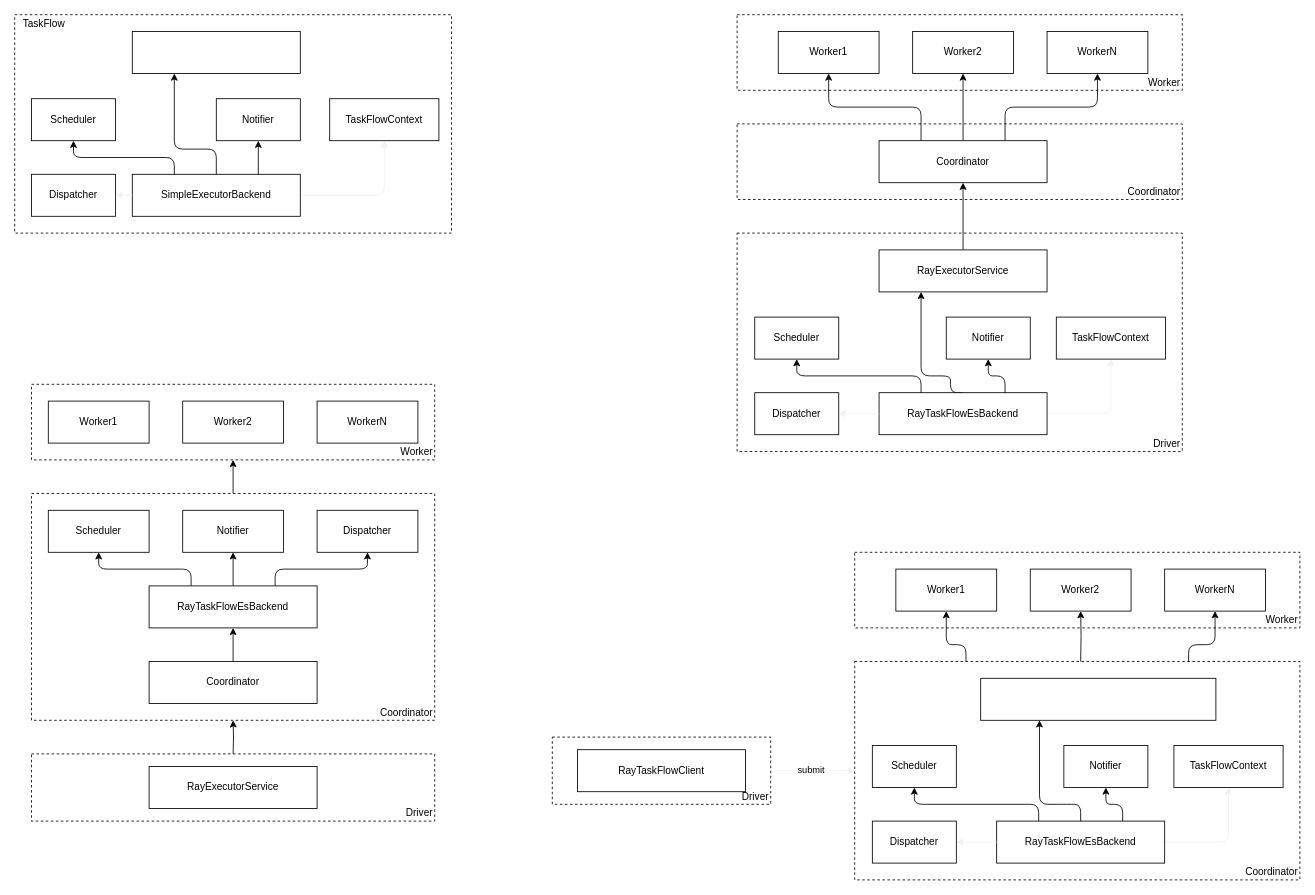
Some shapes in this 1315 by 895 pixel diagram are drawn without their labels. Each missing label, with the centre of its shape:
"RayExecutorService/Coordinator" goes at point (1098, 698).
"ThreadPoolExecutor" goes at point (215, 52).
